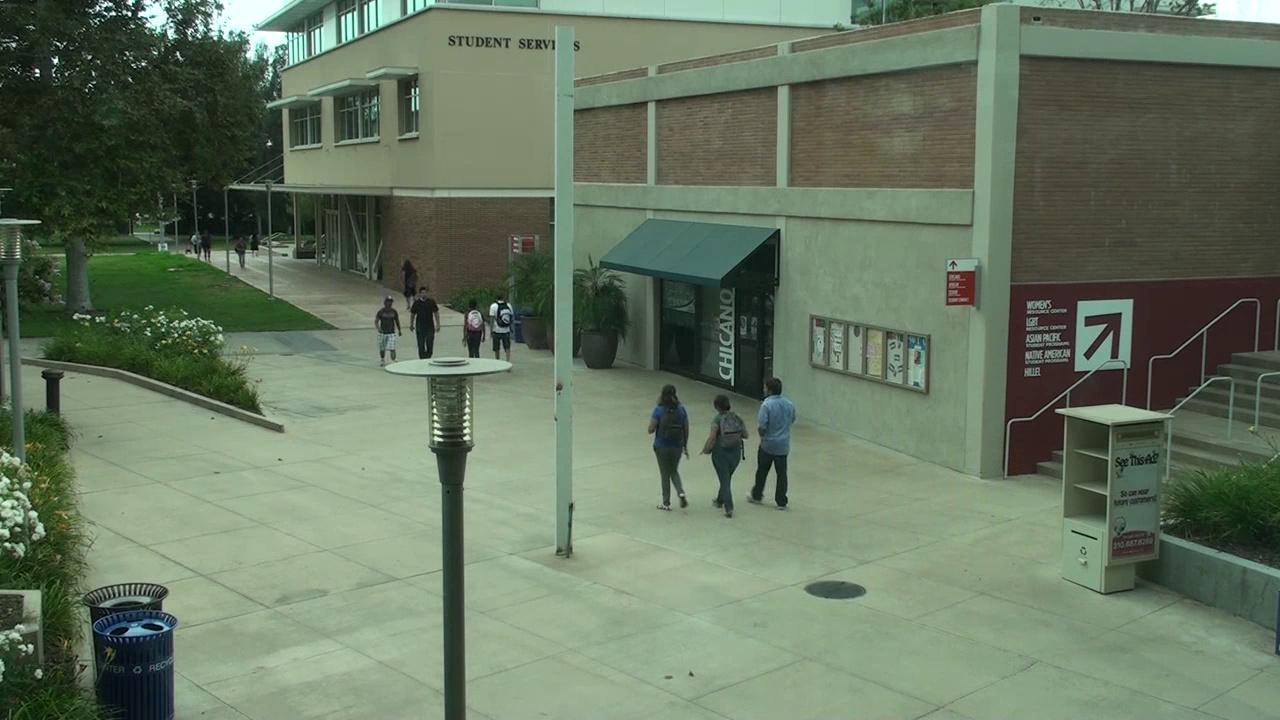person: (748, 377, 795, 509), (702, 395, 749, 517), (648, 385, 688, 510), (410, 285, 439, 357), (376, 296, 401, 365), (488, 292, 513, 360), (463, 300, 486, 357), (400, 258, 418, 309), (234, 236, 245, 267)
